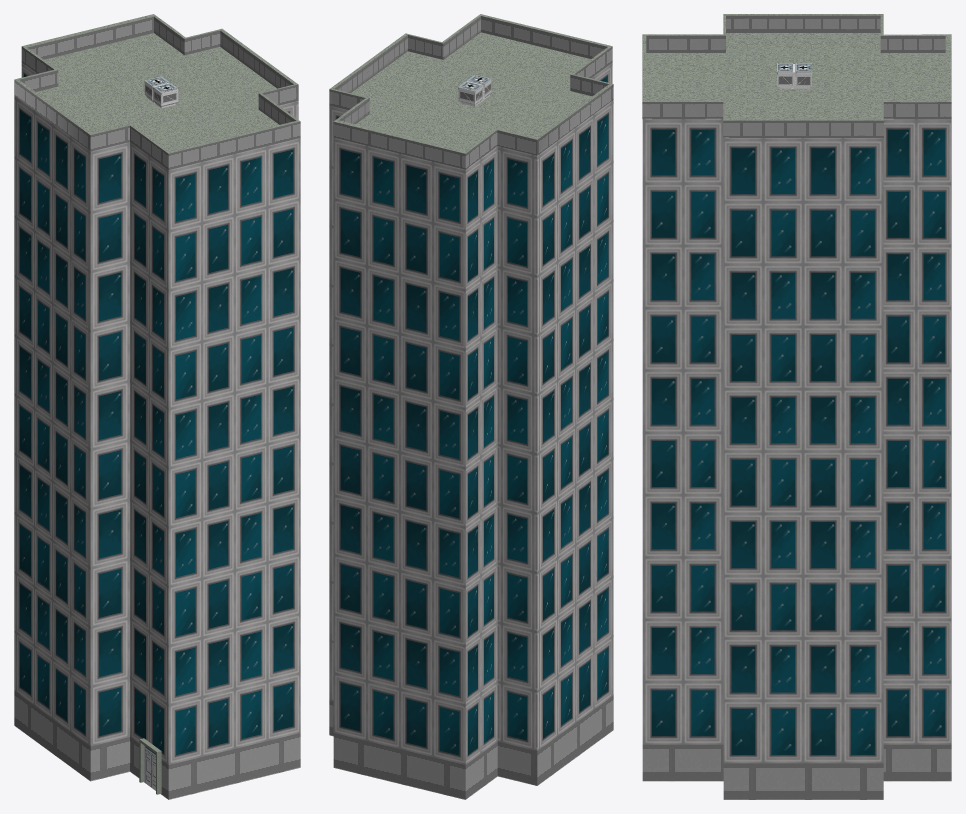
The model's file is BGN_BUILDING OFFICE SINGLE.fbx.
3 views of the same model, side by side, from view 1: azimuth 30°, elevation 25°; view 2: azimuth 150°, elevation 25°; view 3: azimuth 270°, elevation 25° (orthographic). The views are drawn at different scales.
Visible parts, largest first — view 1: BGN_BUILDING_OFFICE_SINGLE, BLOCKYGON_ROOF_AC__4_; view 2: BGN_BUILDING_OFFICE_SINGLE, BLOCKYGON_ROOF_AC__4_; view 3: BGN_BUILDING_OFFICE_SINGLE, BLOCKYGON_ROOF_AC__4_.
Part boxes in pixels (x1,y1,x2,y2): BGN_BUILDING_OFFICE_SINGLE: (14, 14, 300, 799); BLOCKYGON_ROOF_AC__4_: (144, 76, 178, 108); BGN_BUILDING_OFFICE_SINGLE: (329, 14, 613, 799); BLOCKYGON_ROOF_AC__4_: (458, 75, 491, 106); BGN_BUILDING_OFFICE_SINGLE: (642, 14, 951, 799); BLOCKYGON_ROOF_AC__4_: (777, 63, 811, 88).
Bounding box in the file's own units: 1575 × 4679 × 1928.
